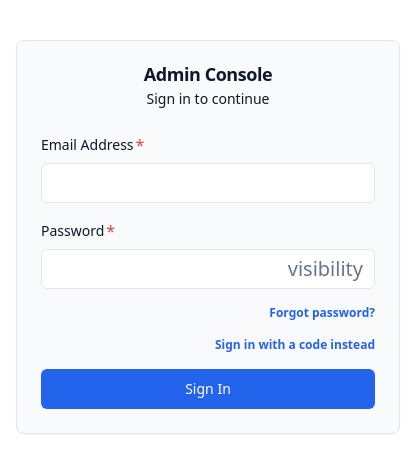
Scenario: LoginForm › renders the translated message for tooManyRequests
This screenshot has width=417, height=475.
In the field labelled "Email Address": (208, 183) [41,163,375,203], type "a@b.io"
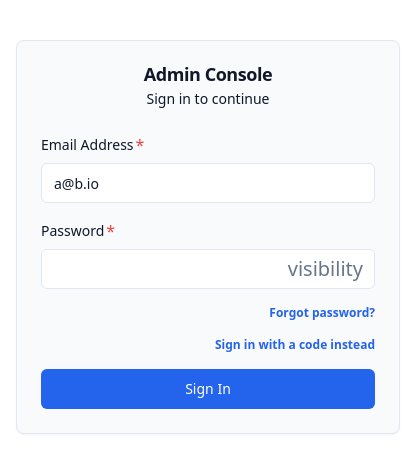
In the password field labelled "Password": (208, 269) [41,249,375,289], type "pw"
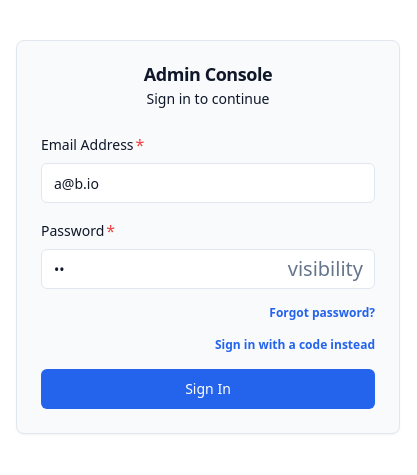
Submit the form, box [41,133,375,409]
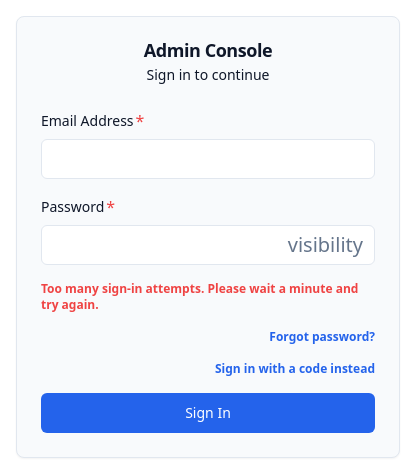
Expected: the text with test id "login-error" reads "Too many sign-in attempts. Please wait a minute and try again.", [41,280,358,313]
